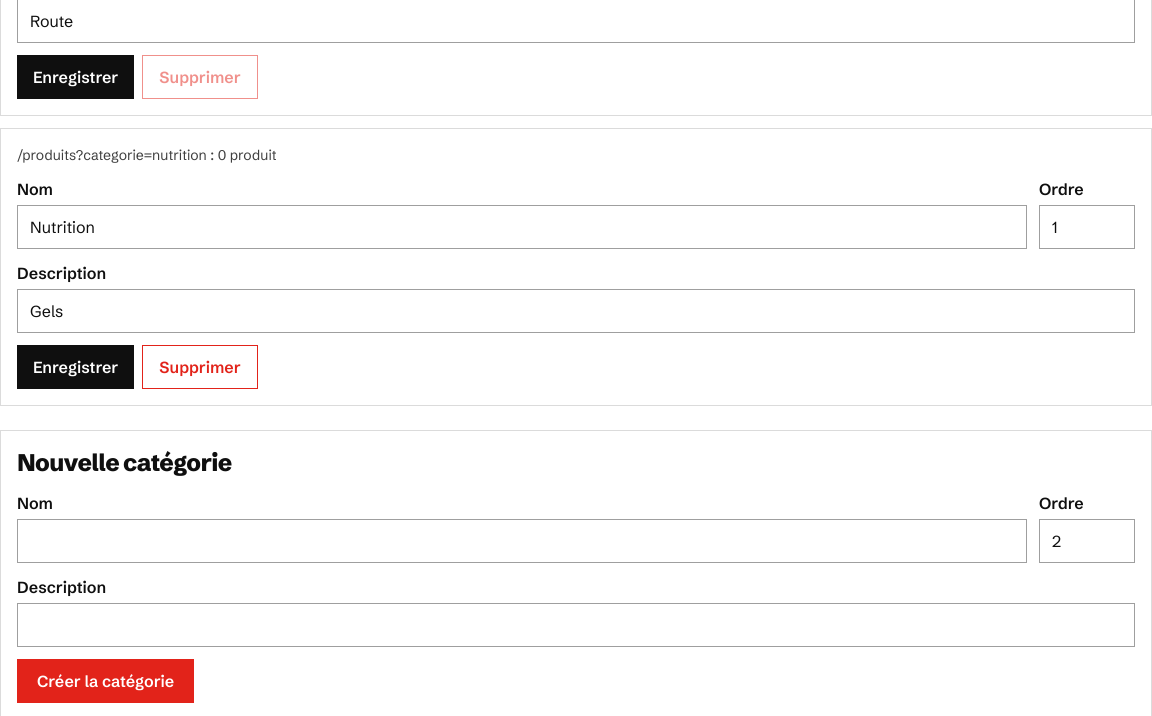
Test: CategoryManager (EA03) › création ; catégorie non vide : suppression désactivée
(page scrolled)
Check: the button with aria-label "Supprimer la catégorie Chaussures de route" is disabled, box [142,55,258,99]
Check: the button with aria-label "Supprimer la catégorie Nutrition" is enabled, box [142,345,258,389]
Type "Récup" into the field labelled "Nom" below "Nouvelle catégorie" at (522, 541), box [17,519,1027,563]
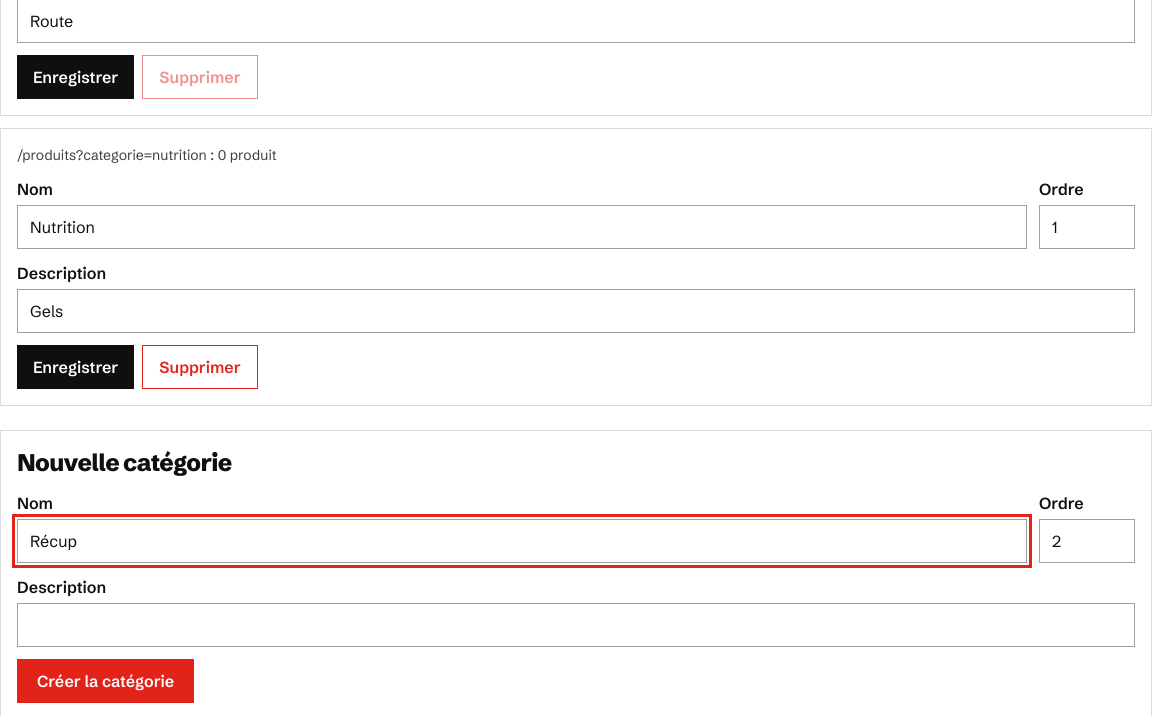
Type "Rouleaux" into the field labelled "Description" below "Nouvelle catégorie" at (576, 625), box [17,603,1135,647]
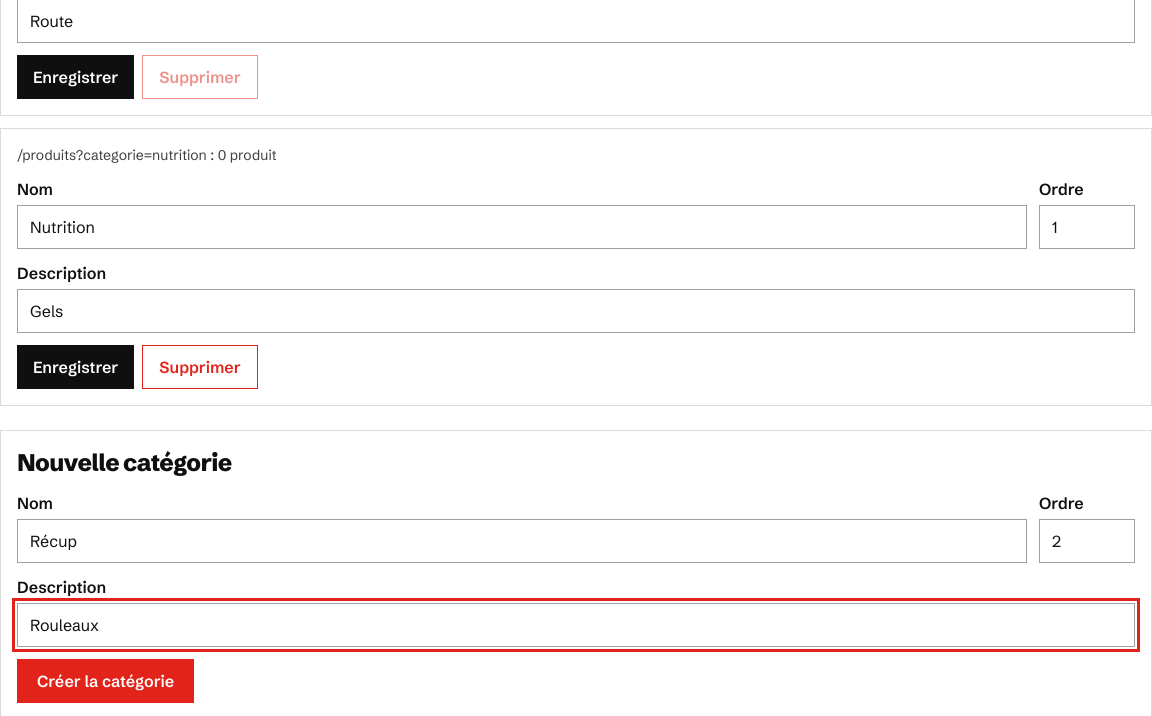
Click the button "Créer la catégorie" at (106, 681), box [17,659,194,703]
(page scrolled)
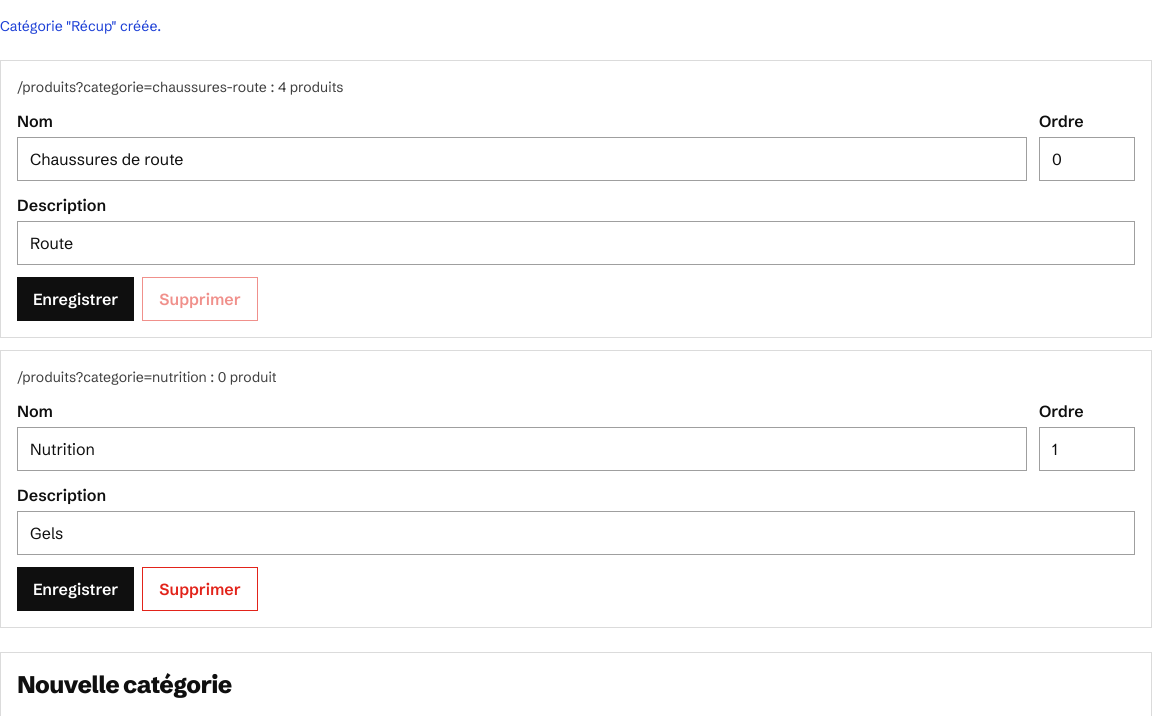
Check: the message reads "Catégorie \"Récup\" créée.", box [0,17,161,35]
